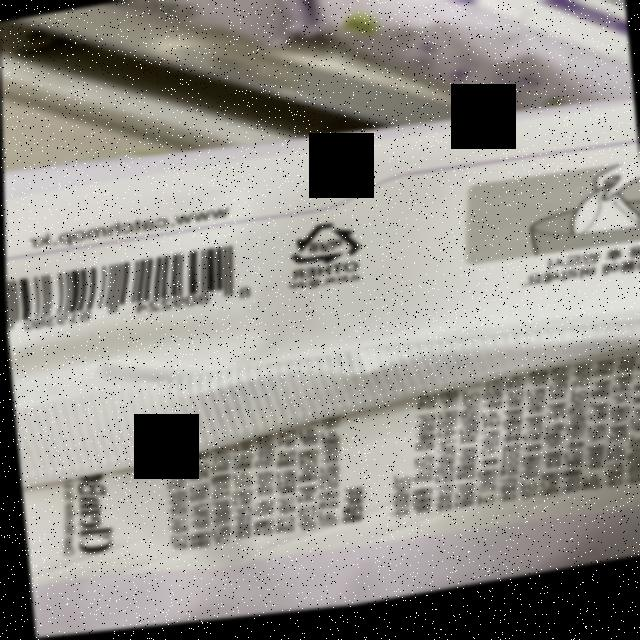Vinyl: (284, 222, 365, 276)
